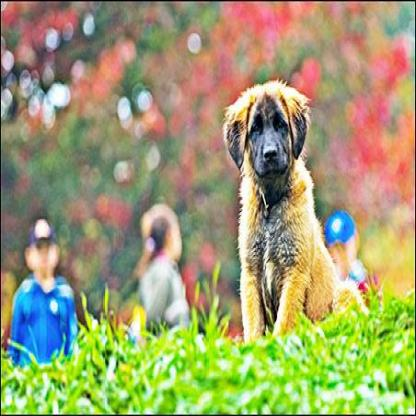Leonberg: (219, 73, 340, 351)
